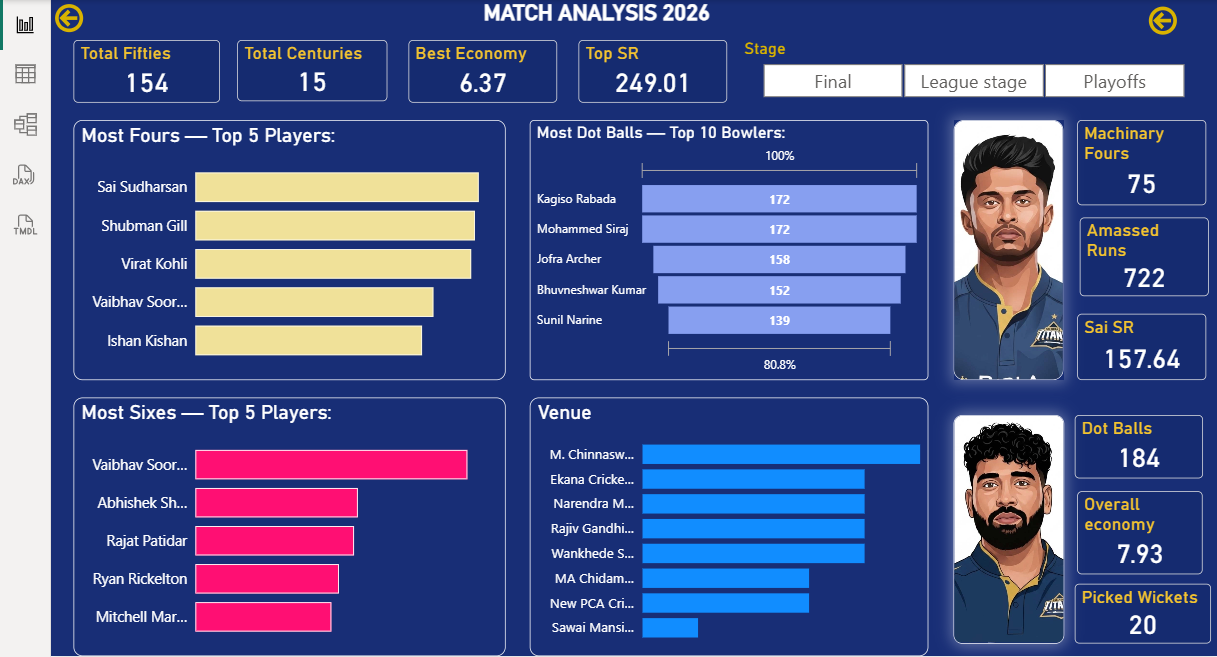

The dashboard page shown, as its layout file describes it:
{"tool":"powerbi","page":{"name":"Page 3","canvas":[1280,720],"ordinal":2},"visuals":[{"type":"card","title":"Total Centuries","fields":{"Values":["IPL_Measures.Total Centuries"]},"box":[204.5,43.9,164.7,67.2],"z":0},{"type":"card","title":"Total Fifties","fields":{"Values":["IPL_Measures.Total Fifties"]},"box":[24.7,43.9,160.5,68.6],"z":1000},{"type":"clusteredBarChart","title":"Most Fours — Top 5 Players:","fields":{"Category":["deliveries.striker"],"Y":["IPL_Measures.Total Fours"]},"box":[24.7,131.7,474.8,285.4],"z":2000},{"type":"clusteredBarChart","title":"Most Sixes — Top 5 Players:","fields":{"Category":["deliveries.striker"],"Y":["IPL_Measures.Total Sixes"]},"box":[24.7,436.4,474.8,284],"z":3000},{"type":"funnel","title":"Most Dot Balls — Top 10 Bowlers:","fields":{"Category":["deliveries.bowler"],"Y":["IPL_Measures.Total Dot Balls"]},"box":[525.6,131.7,437.7,285.4],"z":4000},{"type":"textbox","title":"MATCH ANALYSIS 2026","box":[414.7,0,369.7,36.2],"z":5000},{"type":"image","box":[990.7,131.7,120.8,285.4],"z":6000},{"type":"card","title":"Machinary Fours","fields":{"Values":["IPL_Measures.Sai Total Fours"]},"box":[1126.6,131.7,141.3,93.3],"z":7000},{"type":"card","title":"Amassed Runs","fields":{"Values":["IPL_Measures.Sai Total Runs"]},"box":[1129.3,238.8,141.3,86.4],"z":8000},{"type":"image","box":[990.3,455.3,121.8,250.8],"z":9000},{"type":"card","title":"Dot Balls","fields":{"Values":["IPL_Measures.Siraj Dot balls"]},"box":[1123.7,455.3,140.6,69.6],"z":10000},{"type":"card","title":"Picked Wickets","fields":{"Values":["IPL_Measures.Siraj Wickets"]},"box":[1123.7,640.9,149.3,65.2],"z":11000},{"type":"card","title":"Sai SR","fields":{"Values":["IPL_Measures.Sai Strike Rate"]},"box":[1126.6,344.4,141.3,72.7],"z":12000},{"type":"card","title":"Overall economy","fields":{"Values":["IPL_Measures.Siraj Best Economy"]},"box":[1126.6,539.4,137.7,91.3],"z":13000},{"type":"card","title":"Best Economy","fields":{"Values":["IPL_Measures.Best Economy"]},"box":[392.5,43.9,163.3,68.6],"z":14000},{"type":"card","title":"Top SR","fields":{"Values":["IPL_Measures.Top Strike Rate"]},"box":[579.1,43.9,163.3,68.6],"z":15000},{"type":"actionButton","box":[0,0,43.9,39.8],"z":16000},{"type":"barChart","title":"Venue","fields":{"Category":["matches.venue"],"Y":["CountNonNull(matches.match_id)"]},"box":[525.6,436.4,437.7,284],"z":17000},{"type":"slicer","title":"Stage","fields":{"Values":["deliveries.stage"]},"box":[756.1,42.5,511.8,71.4],"z":18000},{"type":"actionButton","title":"Home","box":[1200.7,2.7,52.1,39.8],"z":19000}]}

Visuals, with their boxes on the page's 1280x720 design canvas (x1, y1, x2, y2). These are canvas units, not pixel positions in the 1217x657 screenshot, which may show the page scaled, cropped or inside an application window:
"Total Centuries" card: {"x1": 204, "y1": 44, "x2": 369, "y2": 111}
"Total Fifties" card: {"x1": 25, "y1": 44, "x2": 185, "y2": 112}
"Most Fours — Top 5 Players:" clusteredBarChart: {"x1": 25, "y1": 132, "x2": 500, "y2": 417}
"Most Sixes — Top 5 Players:" clusteredBarChart: {"x1": 25, "y1": 436, "x2": 500, "y2": 720}
"Most Dot Balls — Top 10 Bowlers:" funnel: {"x1": 526, "y1": 132, "x2": 963, "y2": 417}
"MATCH ANALYSIS 2026" textbox: {"x1": 415, "y1": 0, "x2": 784, "y2": 36}
image: {"x1": 991, "y1": 132, "x2": 1112, "y2": 417}
"Machinary Fours" card: {"x1": 1127, "y1": 132, "x2": 1268, "y2": 225}
"Amassed Runs" card: {"x1": 1129, "y1": 239, "x2": 1271, "y2": 325}
image: {"x1": 990, "y1": 455, "x2": 1112, "y2": 706}
"Dot Balls" card: {"x1": 1124, "y1": 455, "x2": 1264, "y2": 525}
"Picked Wickets" card: {"x1": 1124, "y1": 641, "x2": 1273, "y2": 706}
"Sai SR" card: {"x1": 1127, "y1": 344, "x2": 1268, "y2": 417}
"Overall economy" card: {"x1": 1127, "y1": 539, "x2": 1264, "y2": 631}
"Best Economy" card: {"x1": 392, "y1": 44, "x2": 556, "y2": 112}
"Top SR" card: {"x1": 579, "y1": 44, "x2": 742, "y2": 112}
actionButton: {"x1": 0, "y1": 0, "x2": 44, "y2": 40}
"Venue" barChart: {"x1": 526, "y1": 436, "x2": 963, "y2": 720}
"Stage" slicer: {"x1": 756, "y1": 42, "x2": 1268, "y2": 114}
"Home" actionButton: {"x1": 1201, "y1": 3, "x2": 1253, "y2": 42}
